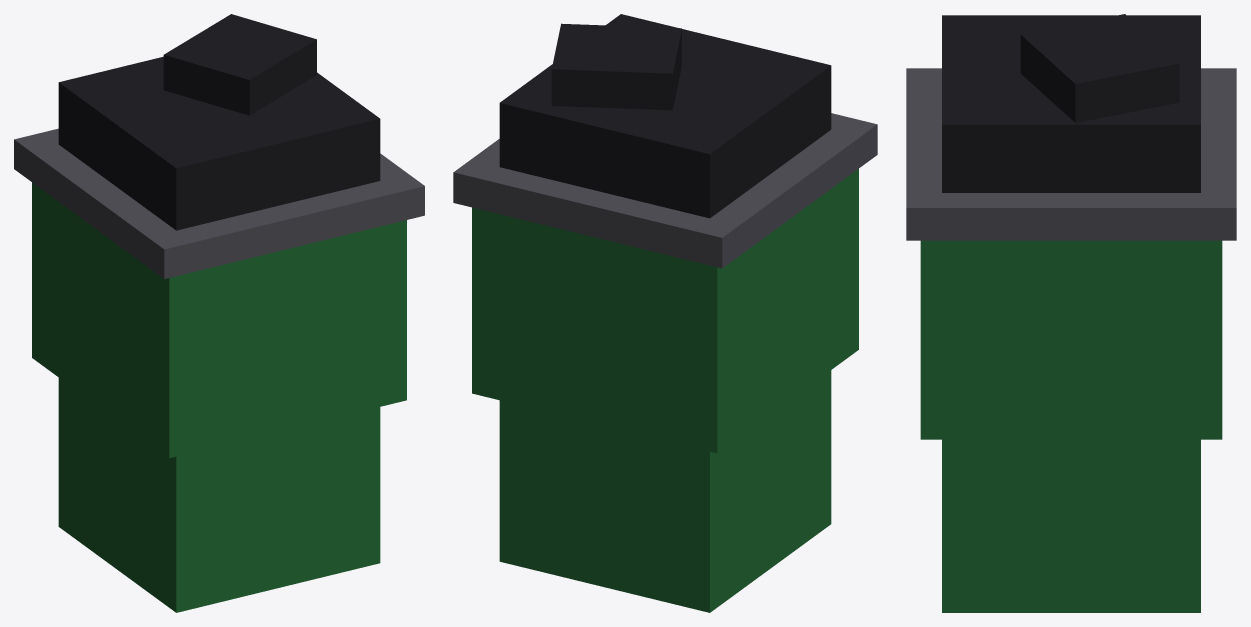
Rendered from lixeira.obj.
The picture shows the model from 3 angles, left to right: view 1: azimuth 30°, elevation 25°; view 2: azimuth 150°, elevation 25°; view 3: azimuth 270°, elevation 25°; orthographic projection. The views are drawn at different scales.
Visible parts, largest first — view 1: lixeira; view 2: lixeira; view 3: lixeira.
Part boxes in pixels (x1,y1,x2,y2): lixeira: [14, 14, 424, 612]; lixeira: [453, 14, 877, 612]; lixeira: [906, 14, 1236, 612].
Bounding box in the file's own units: 0.46 × 0.81 × 0.46.
